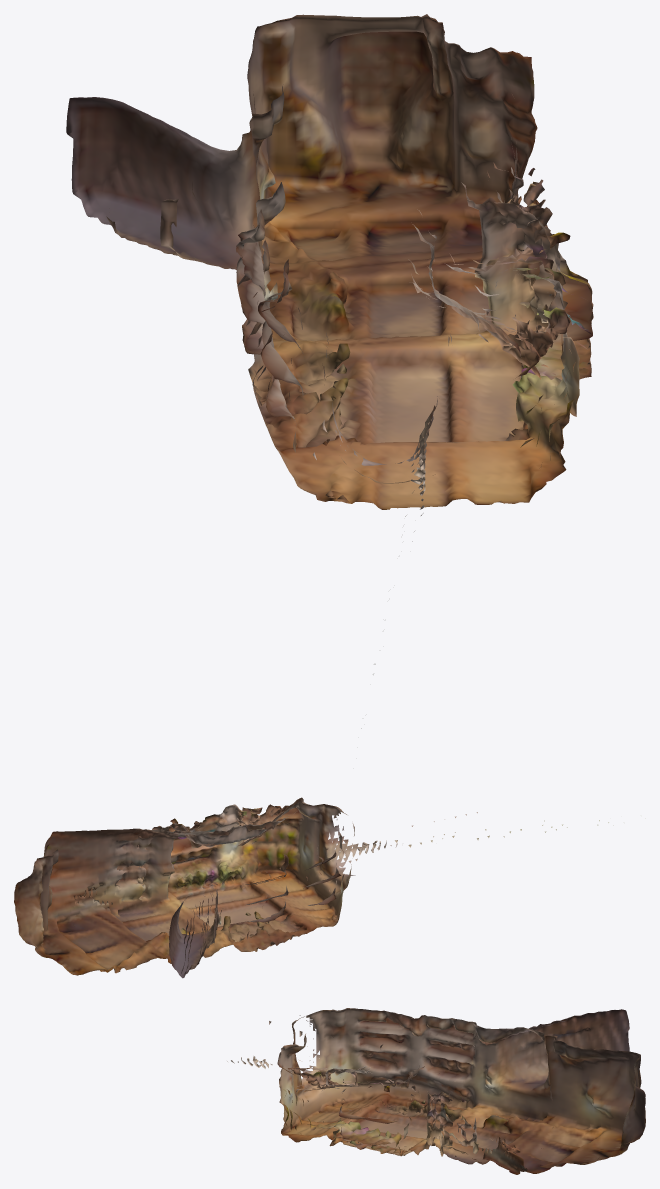
The picture shows the model from 3 angles, top to bottom: view 1: azimuth 30°, elevation 25°; view 2: azimuth 150°, elevation 25°; view 3: azimuth 270°, elevation 25°; orthographic projection. The views are drawn at different scales.
Parts seen in each view (by area): view 1: world; view 2: world; view 3: world.
Part boxes in pixels (box(x1,y1,x2,y2)): world: box(66, 14, 593, 728); world: box(14, 797, 645, 978); world: box(227, 1008, 645, 1174).
Size of the model in its own units: 7.53 by 2.28 by 11.72.
